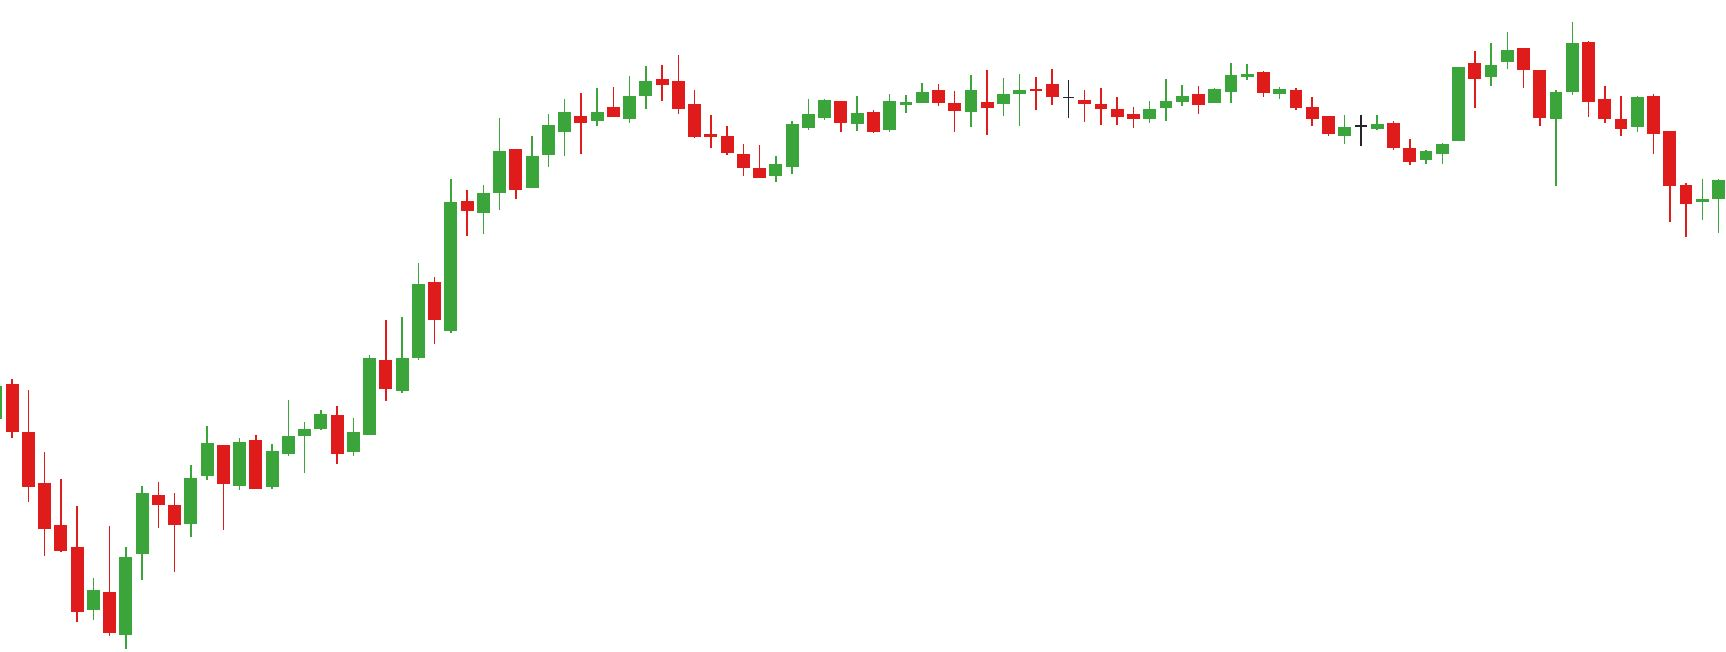sell: (1499, 15, 1599, 132)
